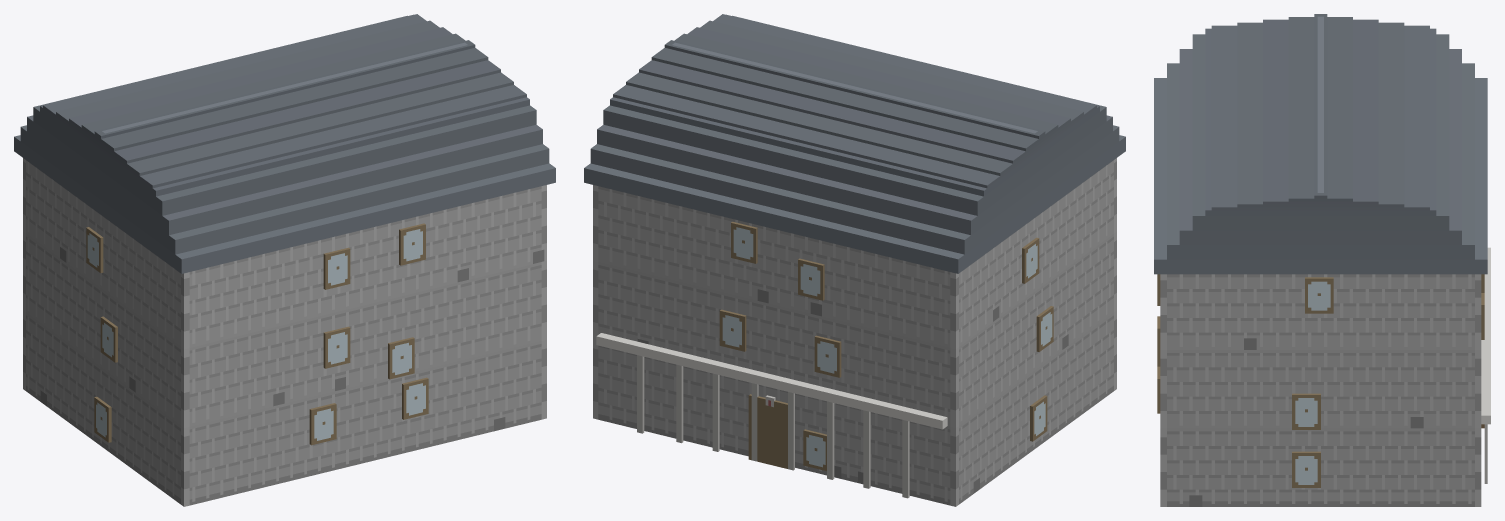
File: academia_magia_02.glb
3 views of the same model, side by side, from view 1: azimuth 30°, elevation 25°; view 2: azimuth 150°, elevation 25°; view 3: azimuth 270°, elevation 25° (orthographic).
Visible parts, largest first — view 1: academia_magia_02; view 2: academia_magia_02; view 3: academia_magia_02.
Part boxes in pixels (x1=…): academia_magia_02: x1=14, y1=14, x2=555, y2=506; academia_magia_02: x1=584, y1=14, x2=1125, y2=506; academia_magia_02: x1=1154, y1=14, x2=1490, y2=506.
Bounding box in the file's own units: 13.4 × 10.8 × 10.5.
